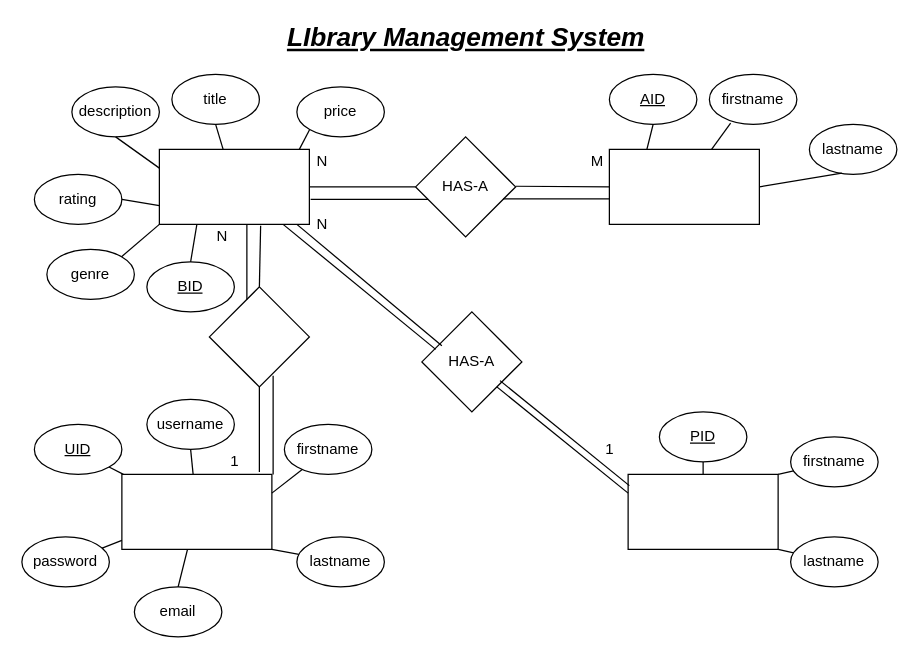
Image size: 919x659. Some labels were removed from this diagram. Here are the shapes that lost their labels. From the top down, the centre of each, then its label:
At point 233,186: "Books".
At point 683,186: "Author".
At point 258,336: "CHECKS OUT".
At point 196,511: "Users".
At point 702,511: "Publisher".
